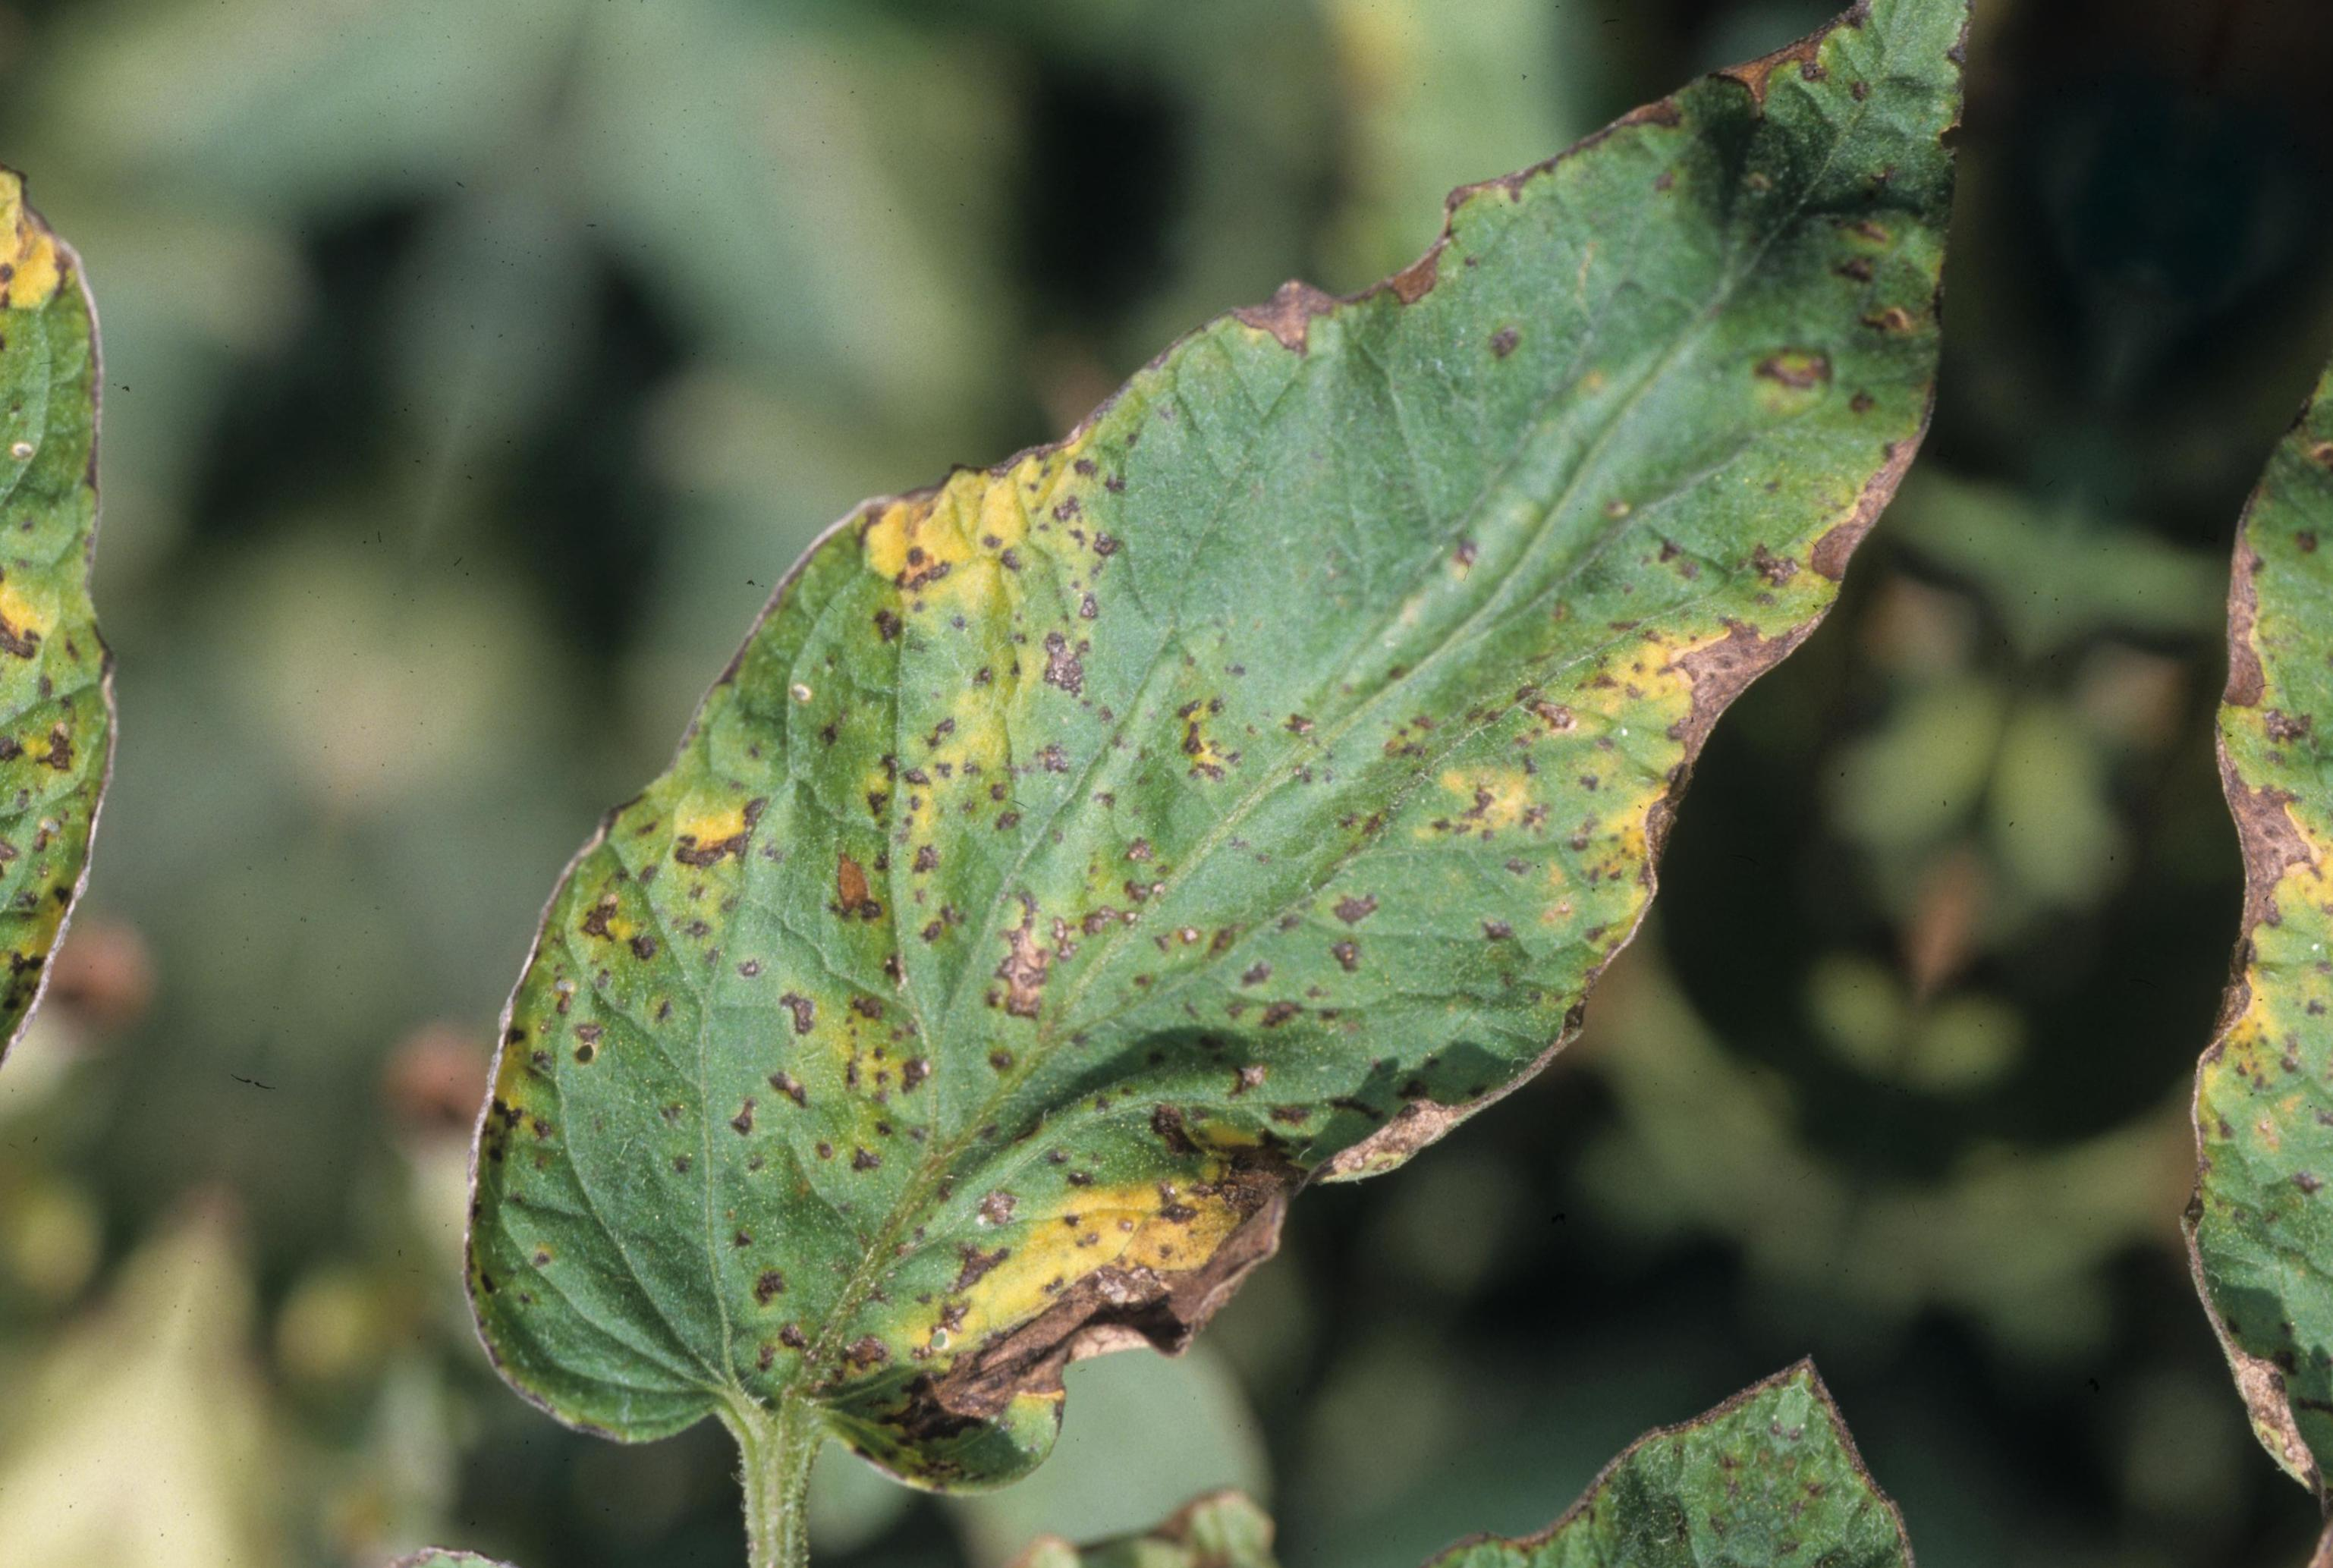Tomato leaf bacterial spot: (336, 0, 2151, 1568)
